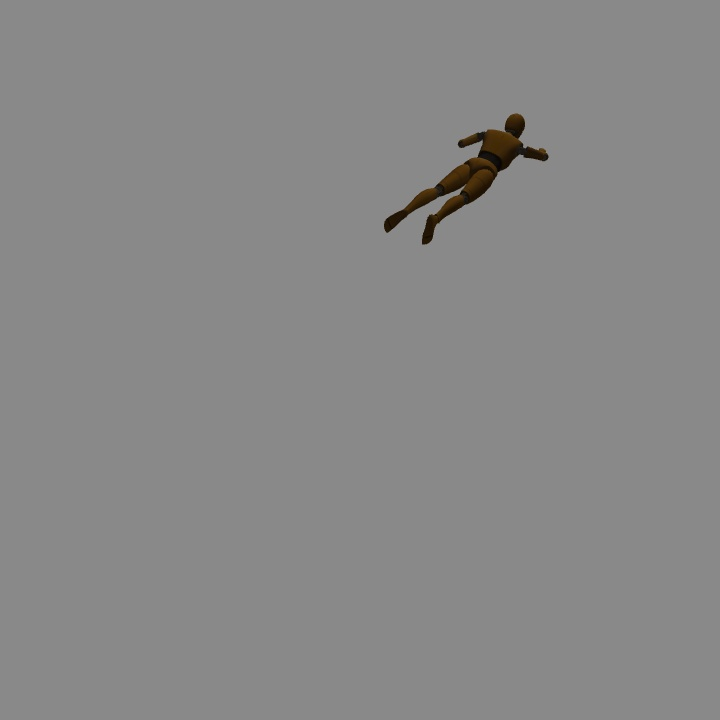victim: (385, 111, 550, 245)
